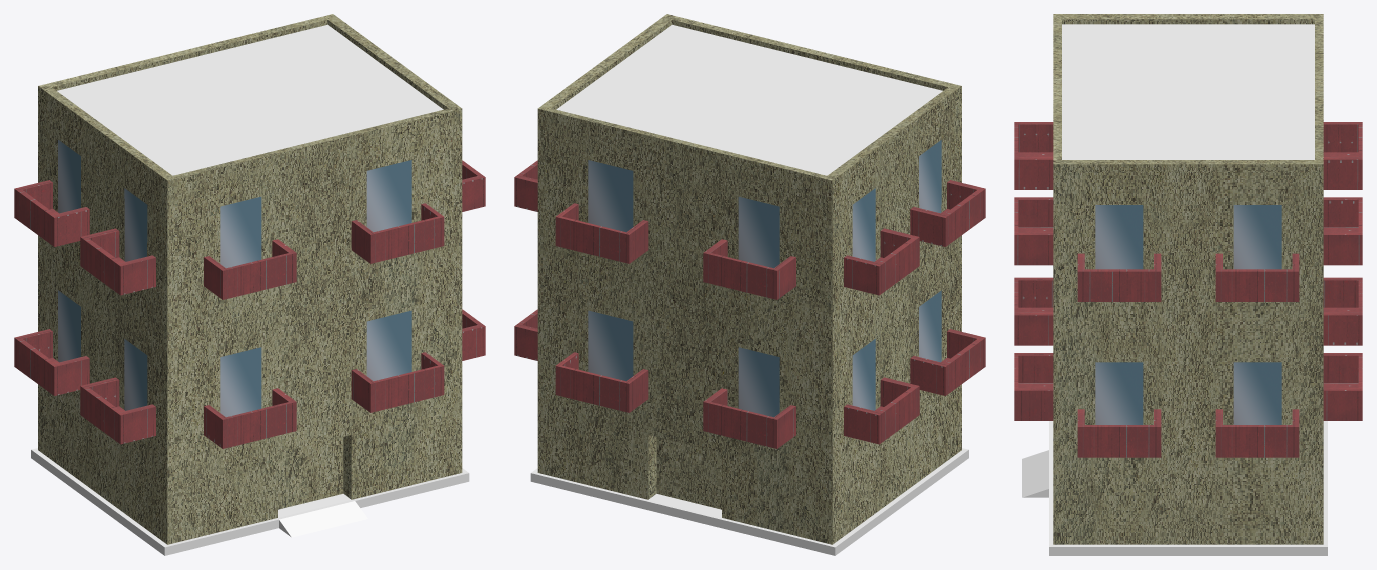
Rendered from apartment_building_b.glb.
The picture shows the model from 3 angles, left to right: view 1: azimuth 30°, elevation 25°; view 2: azimuth 150°, elevation 25°; view 3: azimuth 270°, elevation 25°; orthographic projection. The views are drawn at different scales.
Parts seen in each view (by area): view 1: Cube; view 2: Cube; view 3: Cube.
Boxes of the visible parts, box(x1,y1,x2,y2) form: Cube: box(14, 14, 485, 555); Cube: box(514, 14, 985, 555); Cube: box(1014, 14, 1362, 555).
Size of the model in its own units: 16.69 by 16.27 by 13.2.
4 materials, 3 textured.
